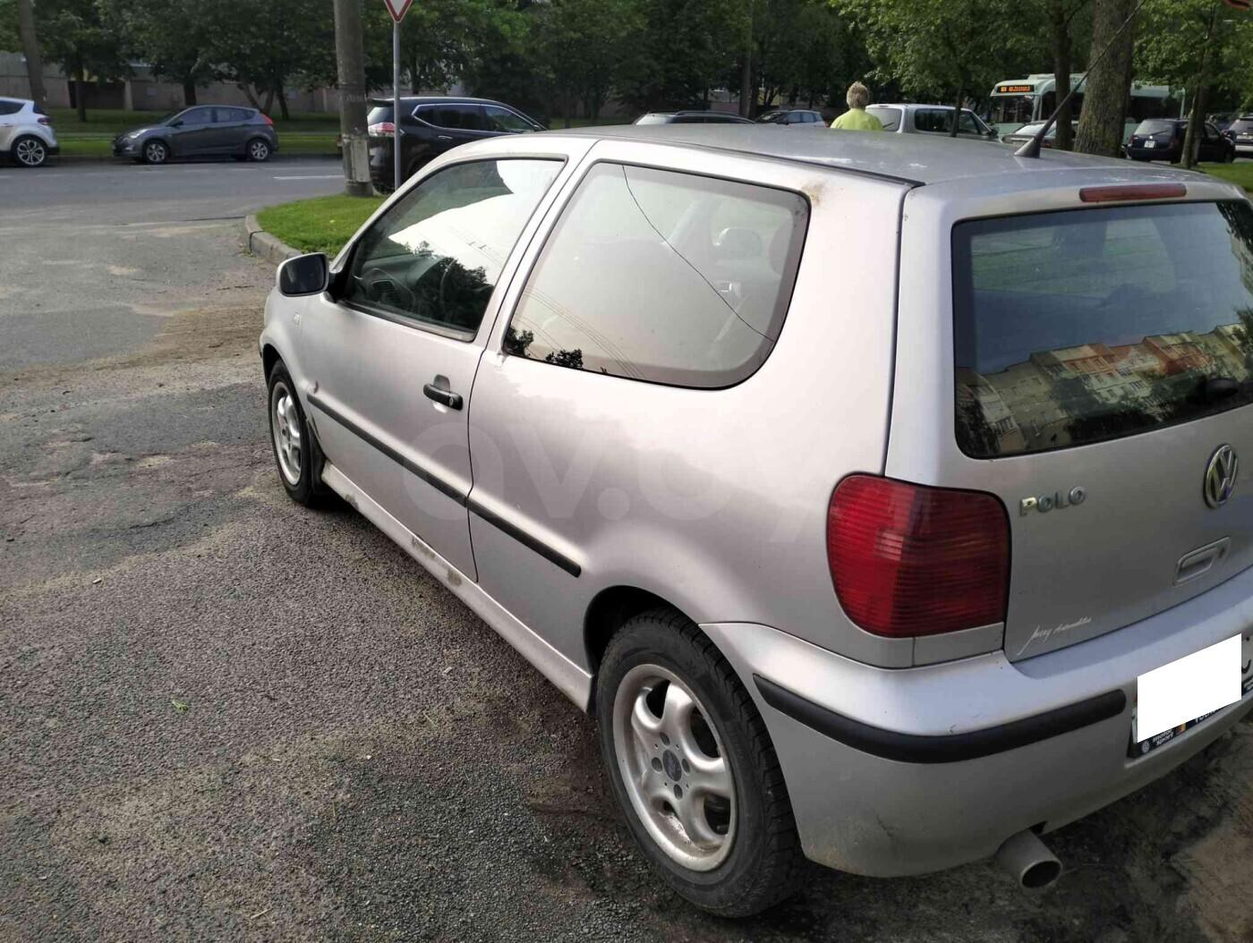Polo_2000-2002: (251, 99, 1253, 916)
